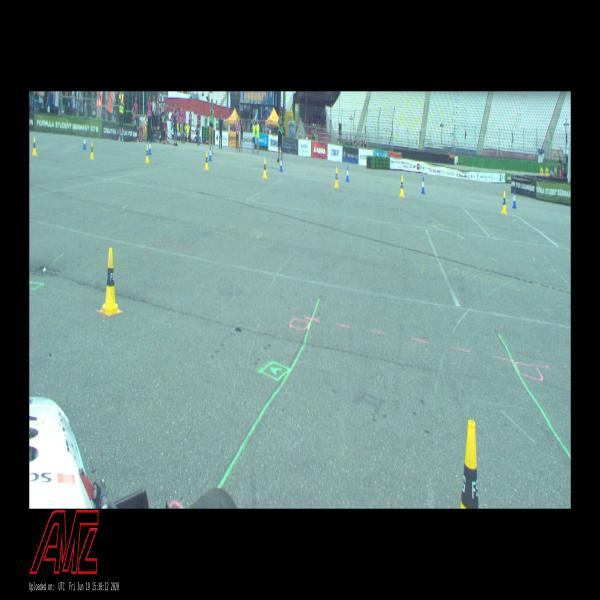blue_cone: (512, 189, 516, 208), (421, 176, 425, 194), (346, 166, 350, 182), (82, 134, 86, 150), (280, 157, 283, 172), (209, 147, 212, 161), (149, 140, 152, 154)
yellow_cone: (460, 420, 478, 509), (100, 248, 121, 316), (500, 190, 508, 215), (399, 175, 405, 197), (262, 158, 268, 179), (32, 136, 37, 157), (334, 167, 339, 188), (204, 151, 209, 170), (89, 141, 94, 159), (145, 146, 150, 162)
